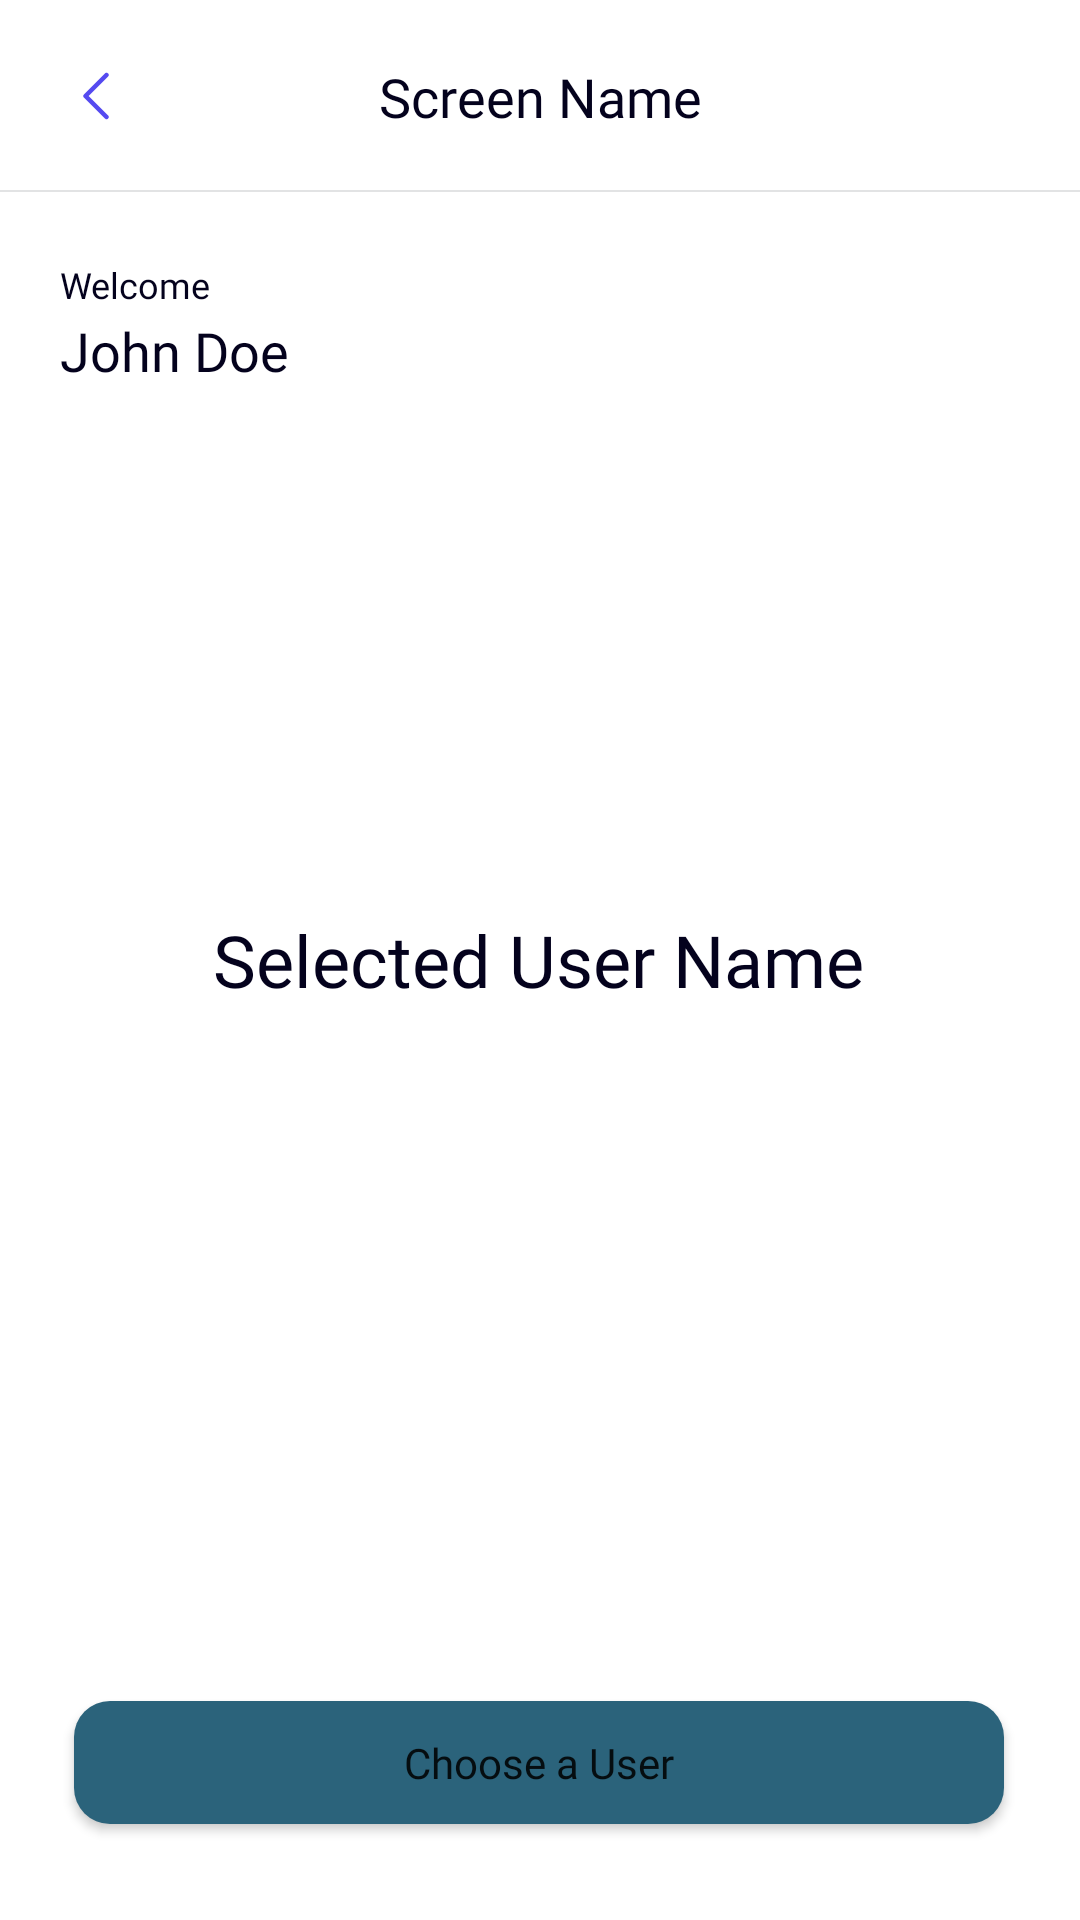

Icon click points for this 1080x1920 phone screenshot, format (x=x, y=y):
back: (x=96, y=96)
